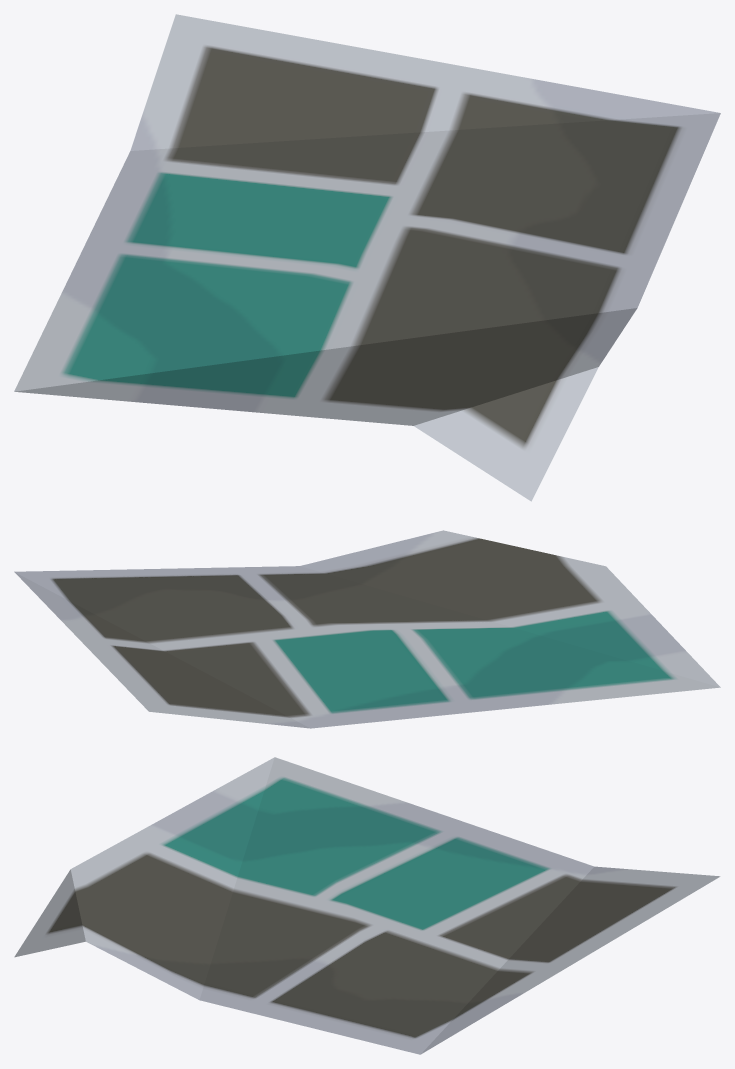
The model's file is SM_FX_Paper_Mesh_03.fbx.
The picture shows the model from 3 angles, top to bottom: view 1: azimuth 30°, elevation 25°; view 2: azimuth 150°, elevation 25°; view 3: azimuth 270°, elevation 25°; orthographic projection. The views are drawn at different scales.
Parts seen in each view (by area): view 1: SM_FX_Paper_Mesh_03; view 2: SM_FX_Paper_Mesh_03; view 3: SM_FX_Paper_Mesh_03.
Boxes of the visible parts, bbox=[...] form: SM_FX_Paper_Mesh_03: bbox=[14, 14, 720, 501]; SM_FX_Paper_Mesh_03: bbox=[14, 530, 720, 728]; SM_FX_Paper_Mesh_03: bbox=[14, 757, 720, 1054].
Size of the model in its own units: 39.4 by 6.76 by 37.77.
